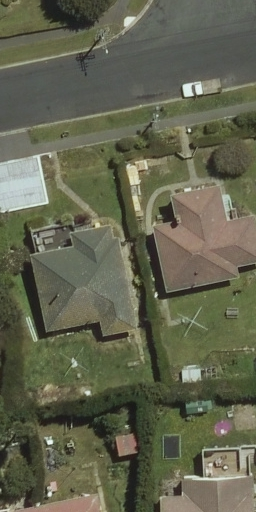DT: (86, 22, 116, 61)
